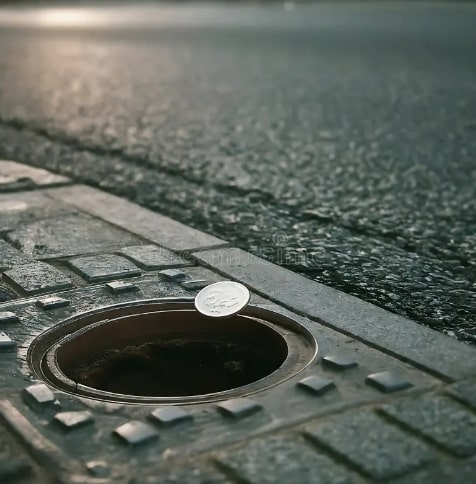open_manhole: (33, 300, 322, 410)
